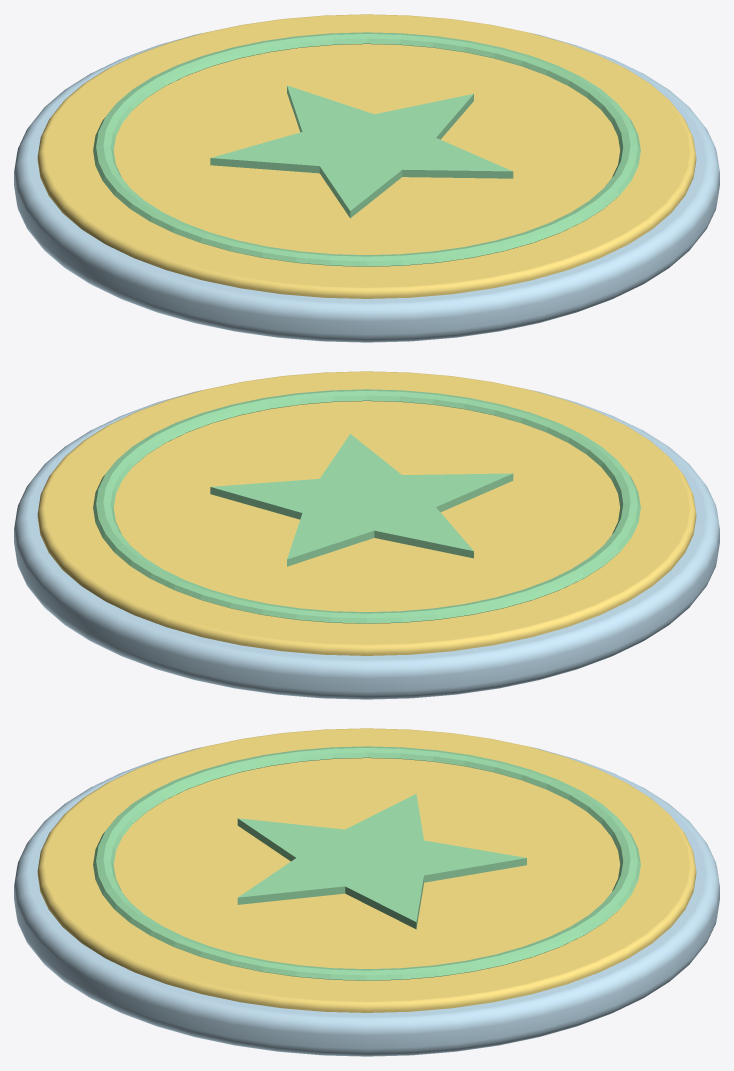
Rendered from DiceDashPadStart.glb.
3 renders of one model, top to bottom at view 1: azimuth 30°, elevation 25°; view 2: azimuth 150°, elevation 25°; view 3: azimuth 270°, elevation 25°, orthographic.
Visible parts, largest first — view 1: Top, Base, Icon; view 2: Top, Base, Icon; view 3: Top, Base, Icon.
Boxes of the visible parts, box(x1,y1,x2,y2) form: Top: box(37, 14, 696, 298); Base: box(14, 33, 719, 342); Icon: box(93, 32, 640, 266); Top: box(37, 371, 696, 655); Base: box(14, 390, 719, 699); Icon: box(93, 389, 640, 623); Top: box(37, 728, 696, 1012); Base: box(14, 747, 719, 1056); Icon: box(93, 746, 640, 980).
Size of the model in its own units: 15 by 1.27 by 15.
